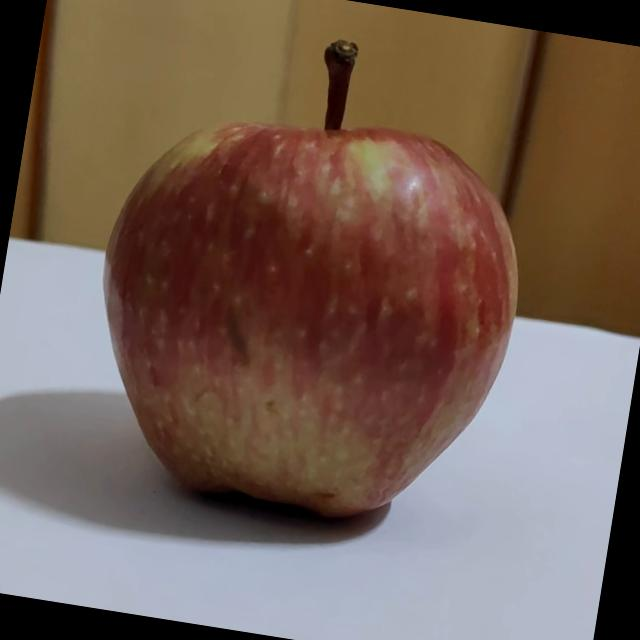apple: (67, 4, 555, 543)
